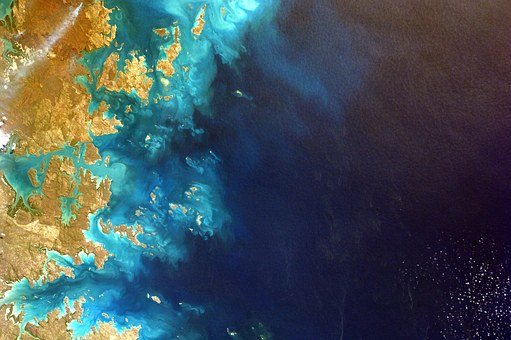sea: (2, 3, 502, 340)
